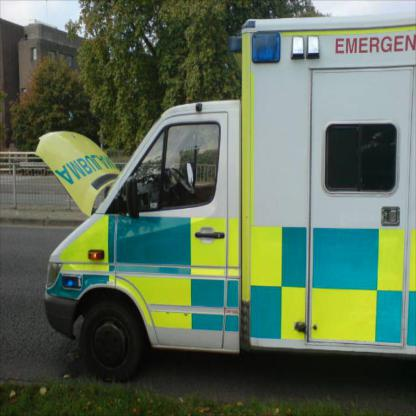Ambulance: (35, 10, 416, 382)
